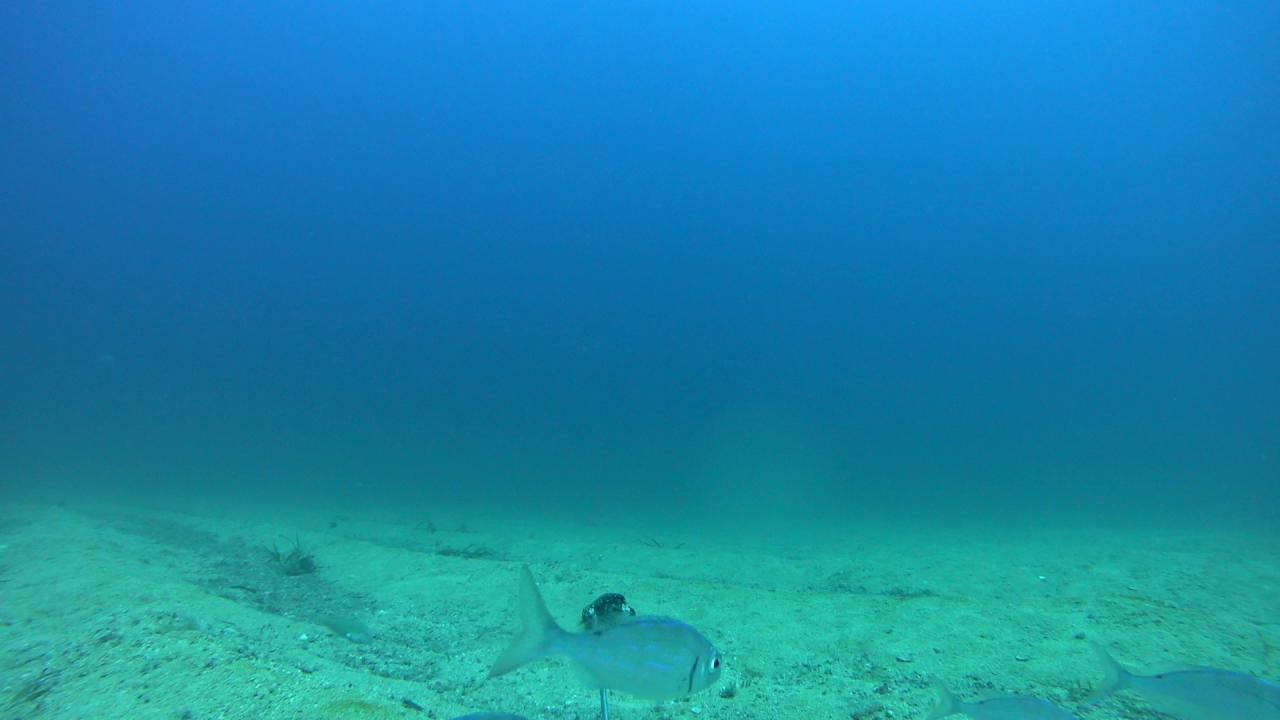pagellus: (485, 565, 721, 697)
